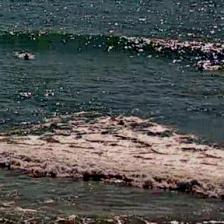surfer: (22, 54, 30, 60), (117, 120, 125, 126), (197, 64, 205, 70)
